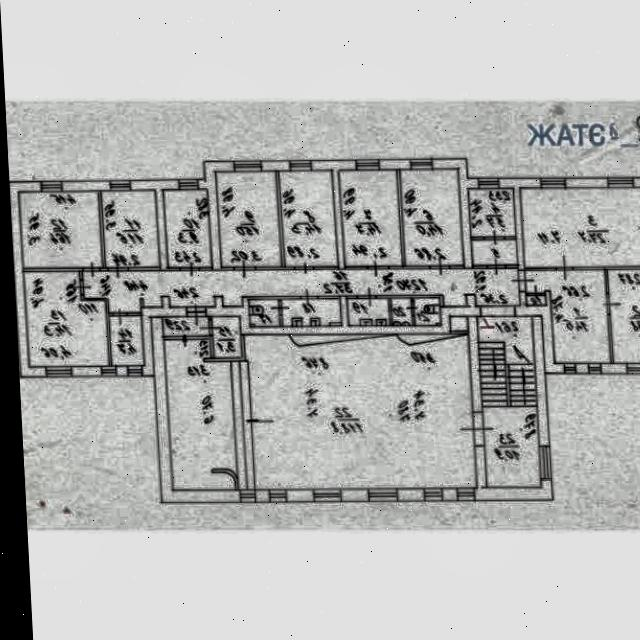room: (245, 333, 476, 490), (83, 263, 520, 314), (163, 336, 238, 494), (478, 316, 541, 491), (521, 190, 640, 268), (525, 265, 611, 368), (23, 268, 109, 370), (400, 167, 464, 269), (217, 169, 281, 270), (21, 191, 102, 268), (340, 169, 401, 269), (279, 169, 336, 270), (102, 187, 160, 270), (165, 187, 212, 268), (607, 269, 640, 364), (469, 188, 515, 239), (109, 314, 144, 368), (282, 299, 341, 326), (211, 317, 241, 359), (471, 240, 516, 266), (348, 299, 390, 326), (250, 300, 280, 327), (163, 319, 209, 336), (415, 297, 441, 327), (392, 298, 412, 326), (527, 295, 546, 306)
